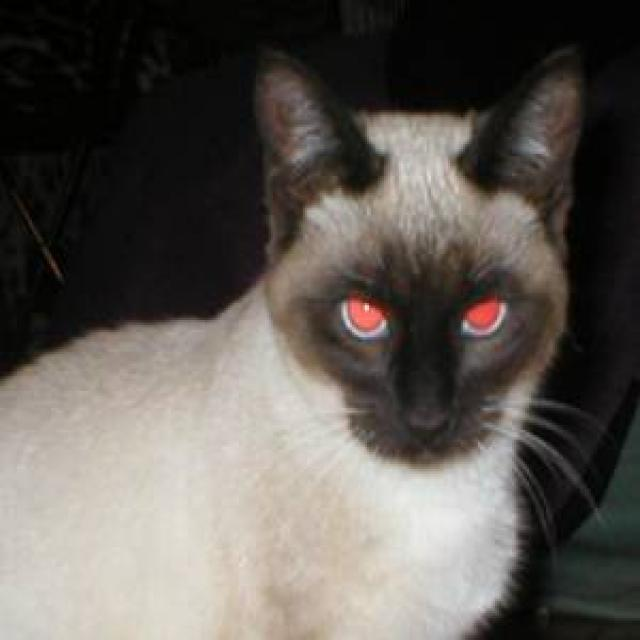Siamese: (237, 24, 607, 474)
